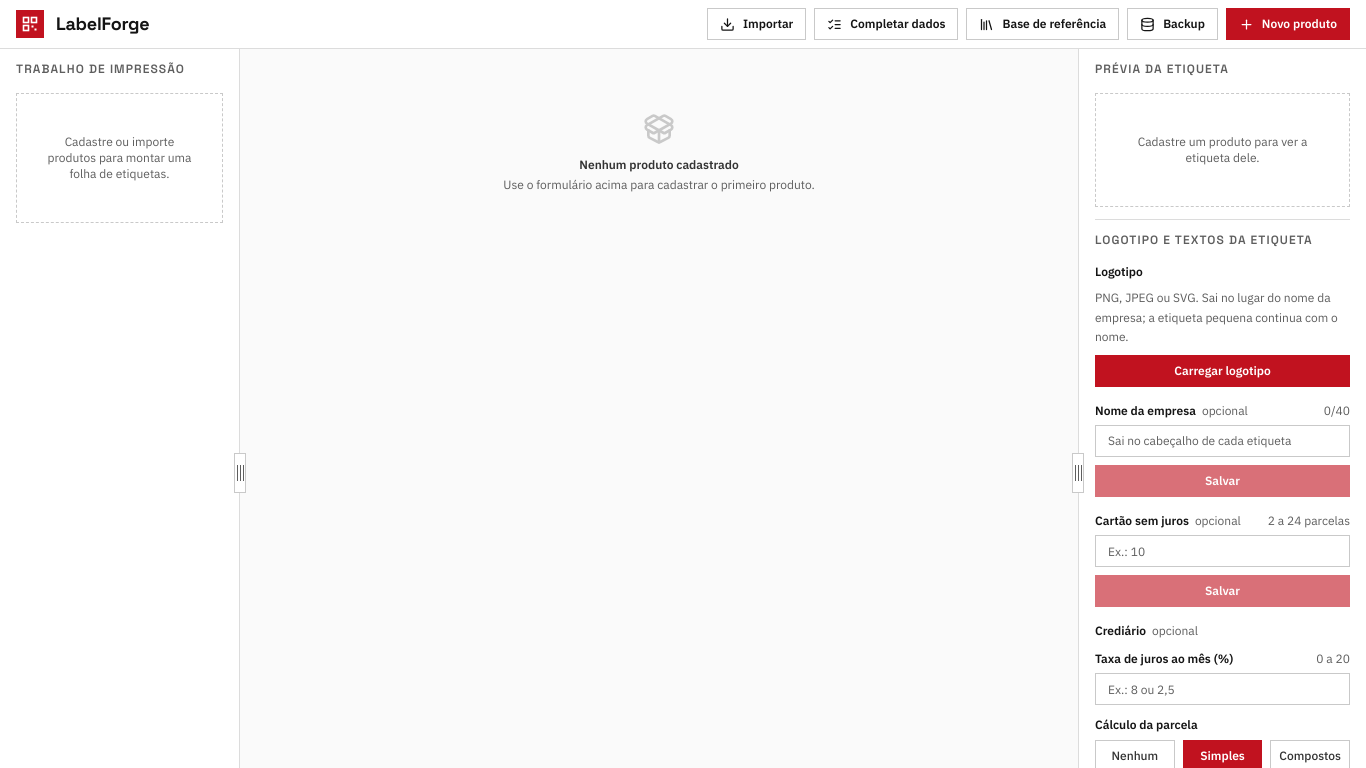
os quatro gatilhos › abre o backup pelo cabecalho
Click the button "Backup".
click(1173, 24)  # box [1127,8,1218,40]
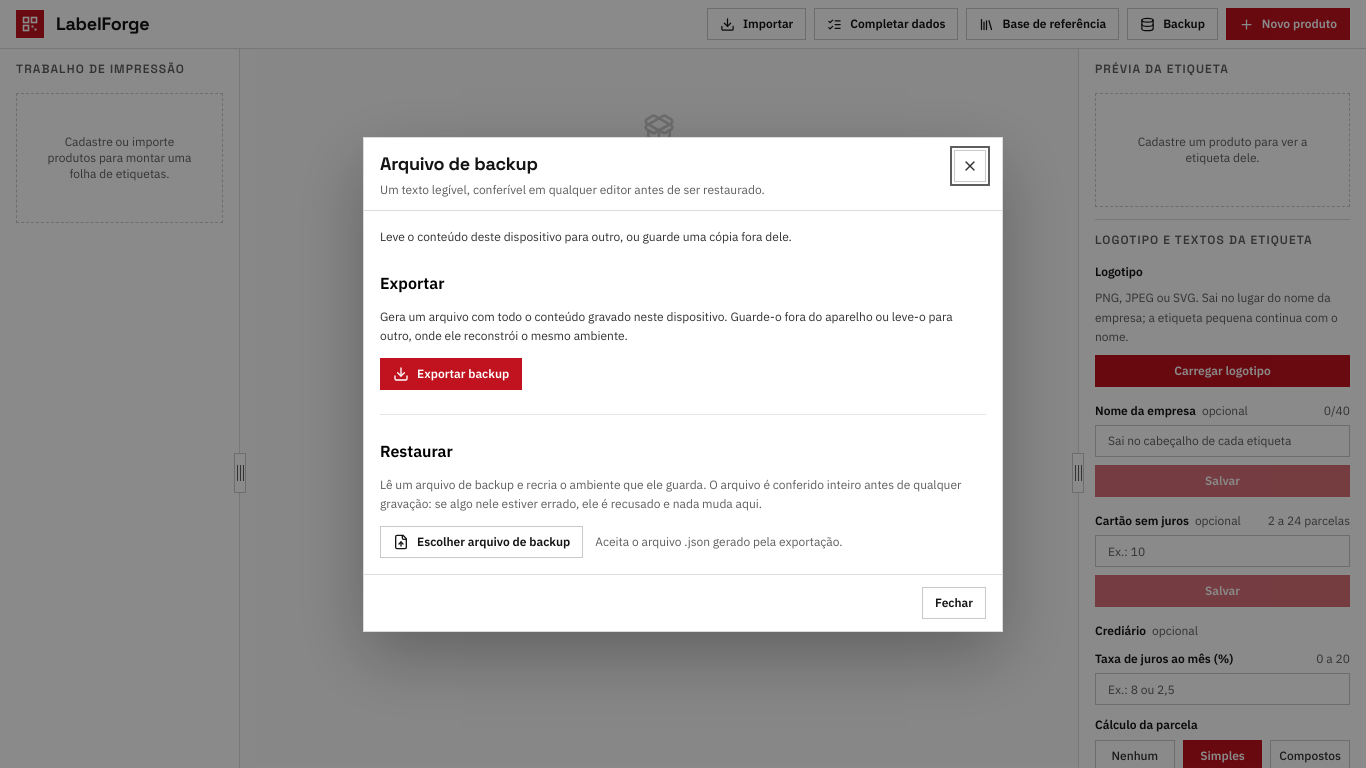
Now the heading "Arquivo de backup" is shown, box [380,152,538,174]
